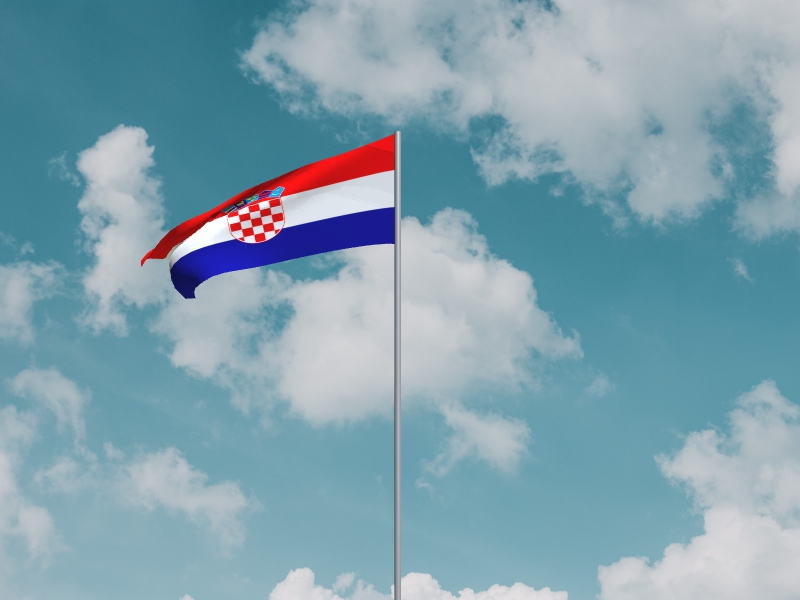hr: (140, 135, 395, 301)
